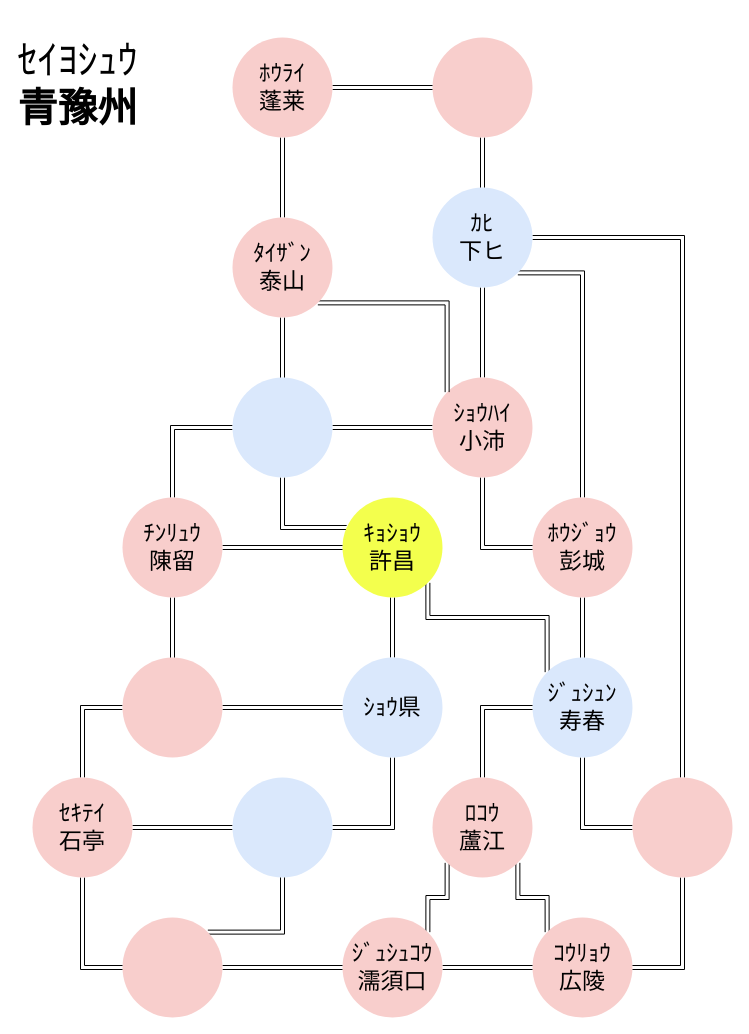
Image size: 749x1034. Some labels were removed from this diagram. The shapes that lost their labels are listed below. From the top down, each one's centre as x and y in pixels, then its label:
At (x=482, y=87): "ﾛｳﾔ 琅ヤ".
At (x=282, y=427): "ﾎﾞｸﾖｳ 濮陽".
At (x=172, y=707): "ｼﾞｮﾅﾝ 汝南".
At (x=282, y=827): "ｴｲｾﾝ 潁川".
At (x=682, y=827): "ﾜｲｲﾝ 淮陰".
At (x=172, y=967): "ｺﾞｳﾋ 合肥".
